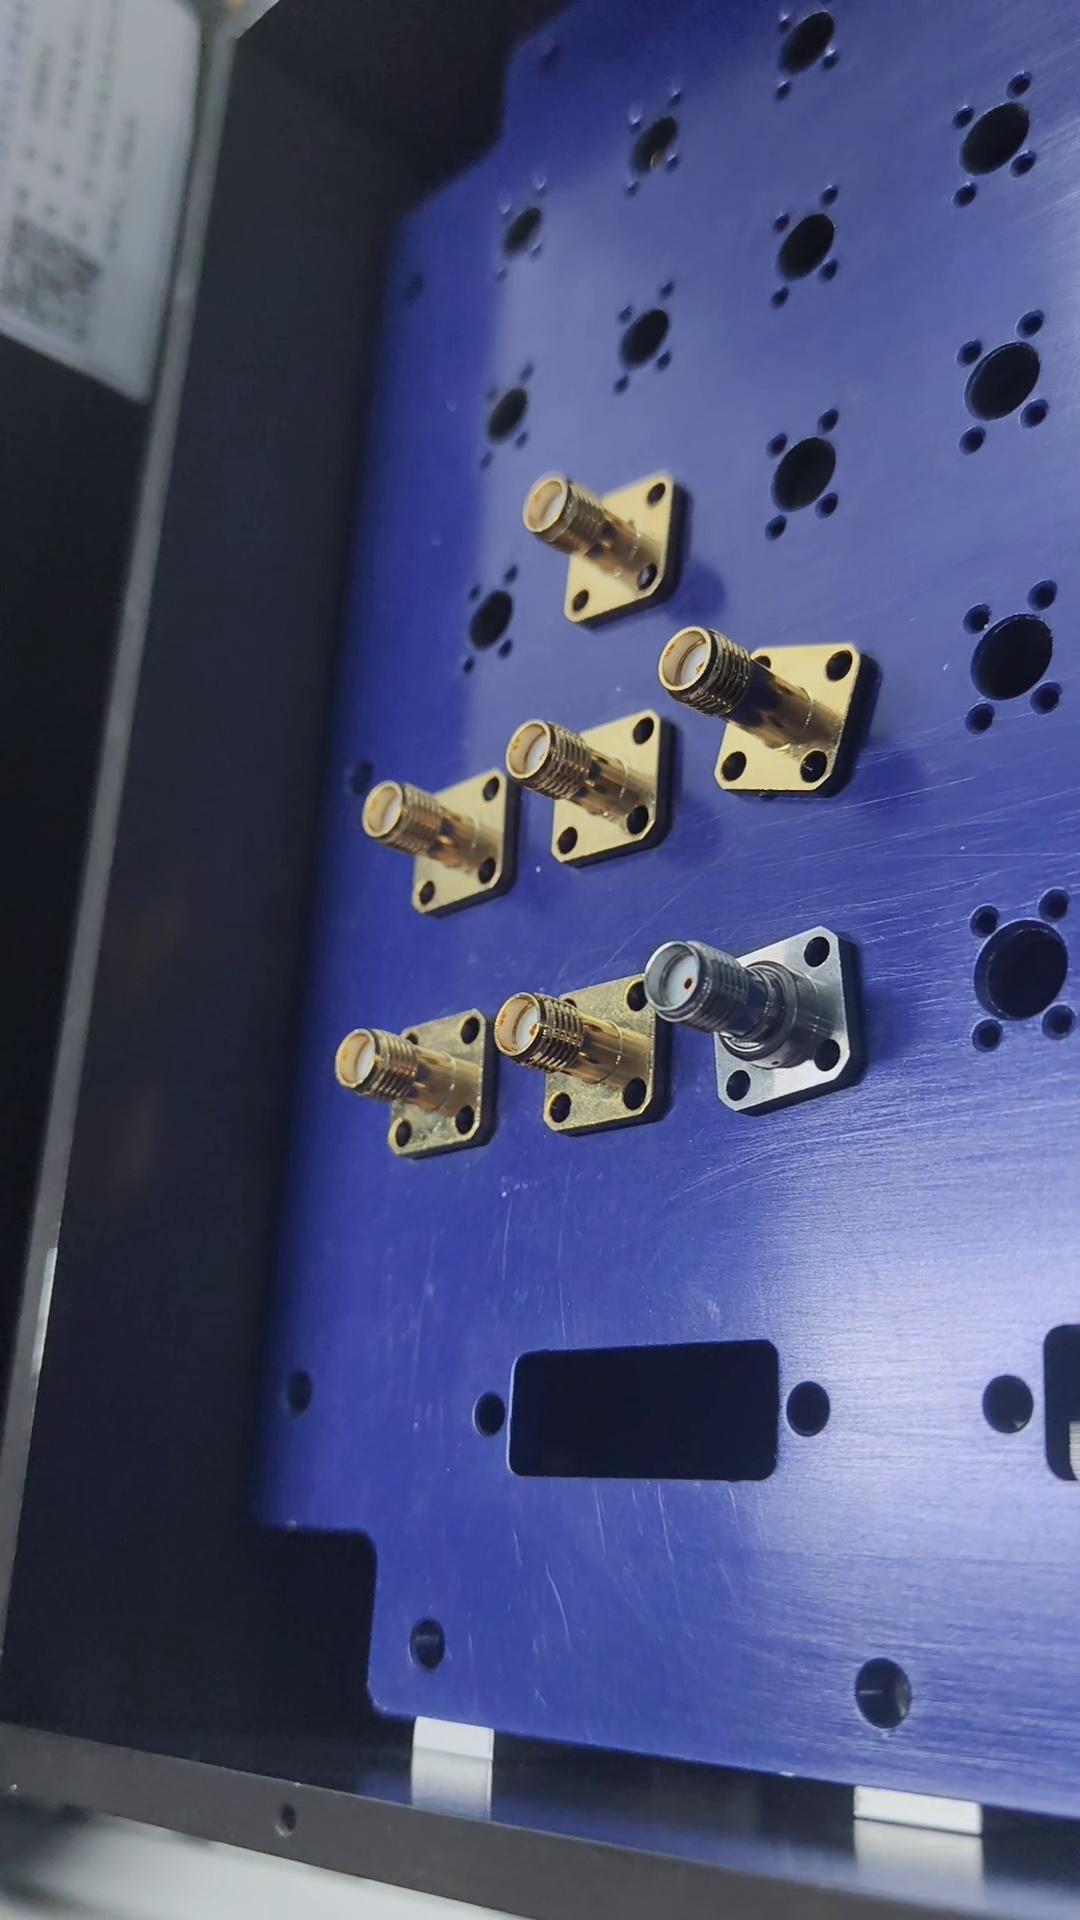SMA: (647, 924, 866, 1114), (661, 620, 869, 796), (495, 975, 661, 1135), (334, 1004, 498, 1164), (501, 712, 671, 862), (521, 469, 684, 618), (361, 767, 517, 914)
